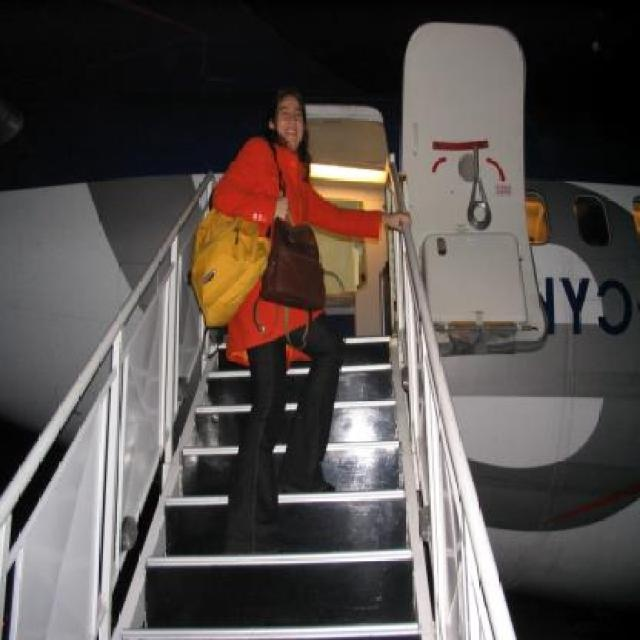stair: (118, 334, 428, 640)
